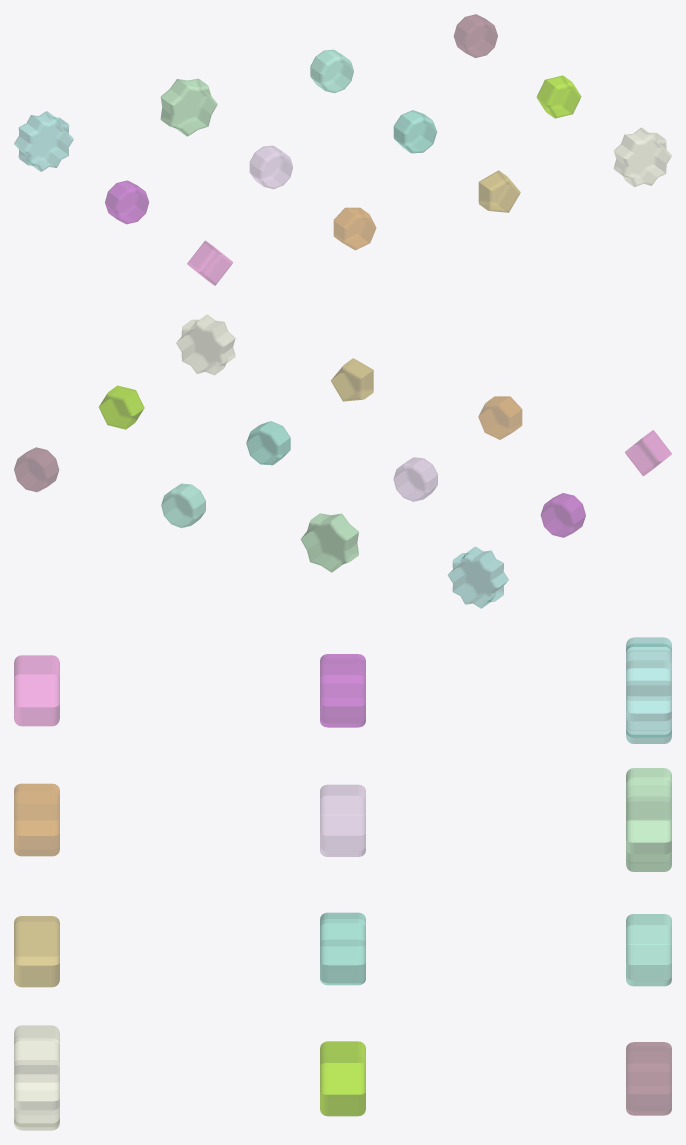
The model's file is Lambert Flat Transparent_Linear_2023-07-23-20-47-44.gltf.
3 views of the same model, one above another, from view 1: azimuth 30°, elevation 25°; view 2: azimuth 150°, elevation 25°; view 3: azimuth 270°, elevation 25° (orthographic). The views are drawn at different scales.
Bounding box in the file's own units: 670 × 68.87 × 430.
